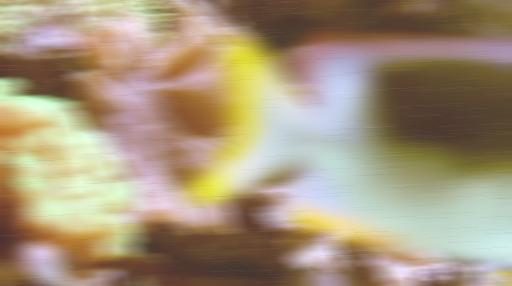Fish: (184, 39, 511, 259), (500, 274, 511, 285)
